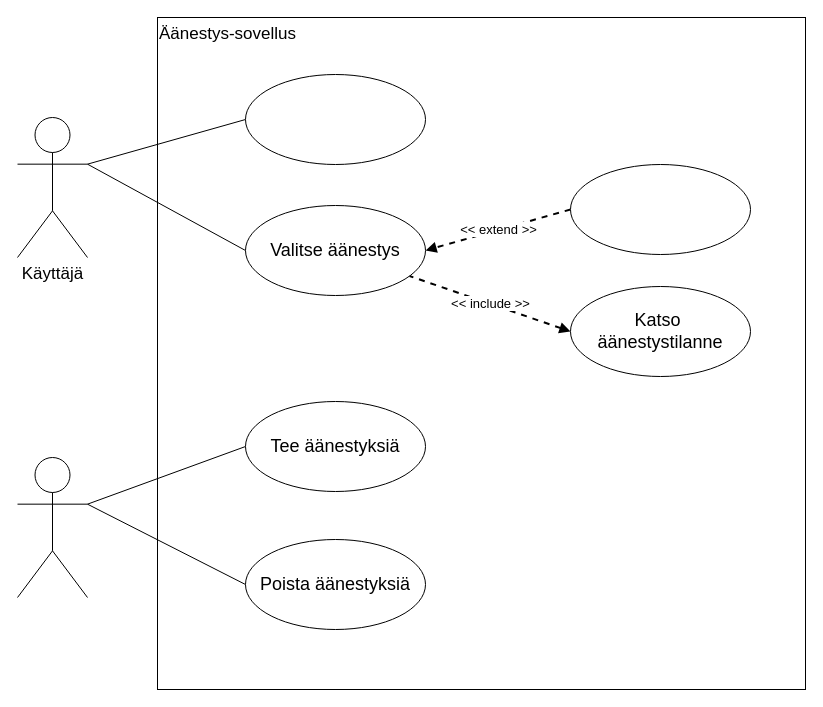
The diagram is 823 pixels wide and 707 high, and some of its shapes have lost their labels. The shapes that lost their labels are listed below. From the top down, each one's centre as x and y in pixels, then its label:
At [335,119]: "Selaile äänestyksiä".
At [660,209]: "Äänestä äänestyksessä".
At [52,527]: "Ylläpitäjä".
